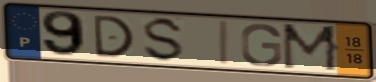9: (40, 9, 90, 60)
D: (90, 14, 136, 59)
G: (239, 22, 285, 68)
I: (217, 19, 231, 67)
M: (280, 22, 341, 74)
S: (140, 16, 187, 65)
